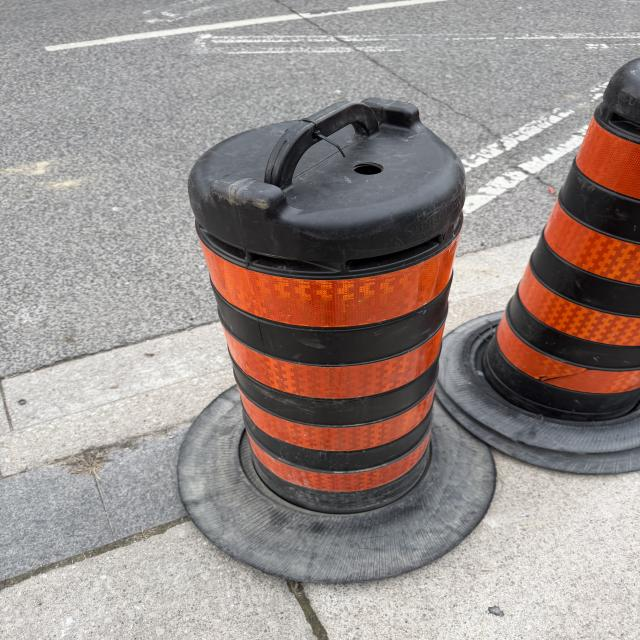Teraffic Barrel: (178, 98, 494, 582), (437, 58, 640, 473)
